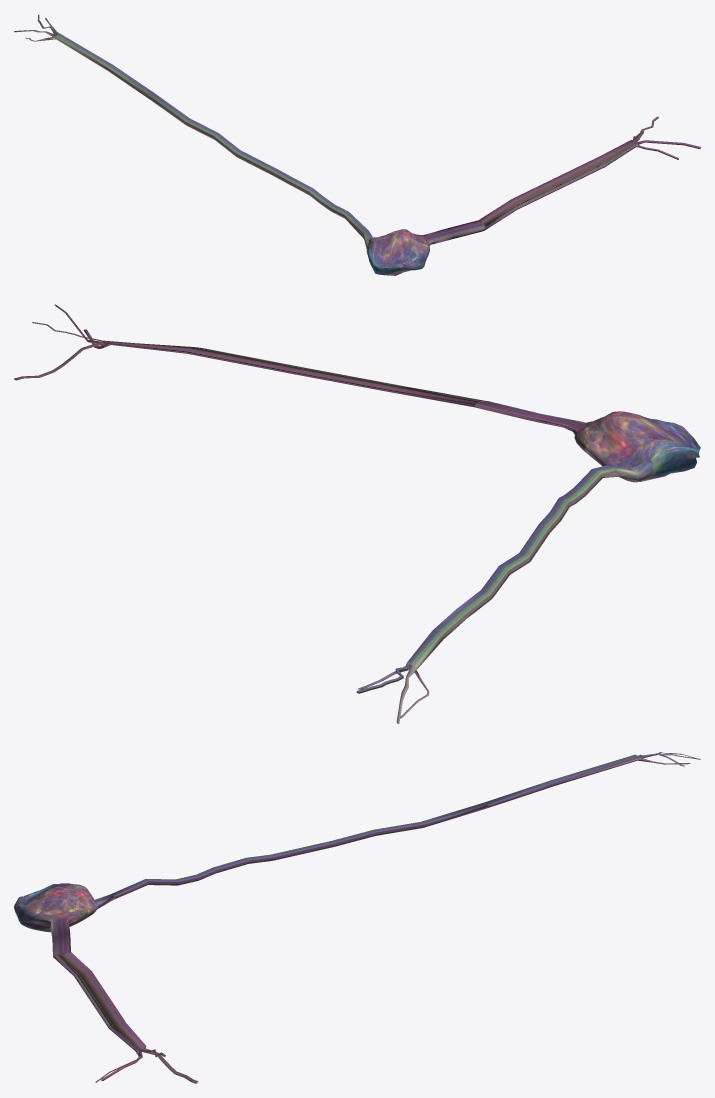
File: lastneuron9.fbx
The picture shows the model from 3 angles, top to bottom: view 1: azimuth 30°, elevation 25°; view 2: azimuth 150°, elevation 25°; view 3: azimuth 270°, elevation 25°; orthographic projection. The views are drawn at different scales.
Parts seen in each view (by area): view 1: done2 duplicted. ex; view 2: done2 duplicted. ex; view 3: done2 duplicted. ex.
Boxes of the visible parts, x1,y1,x2,y2 form: done2 duplicted. ex: (14,14,700,275); done2 duplicted. ex: (14,304,700,723); done2 duplicted. ex: (14,752,700,1083).
Size of the model in its own units: 130357 by 25284 by 141387.
